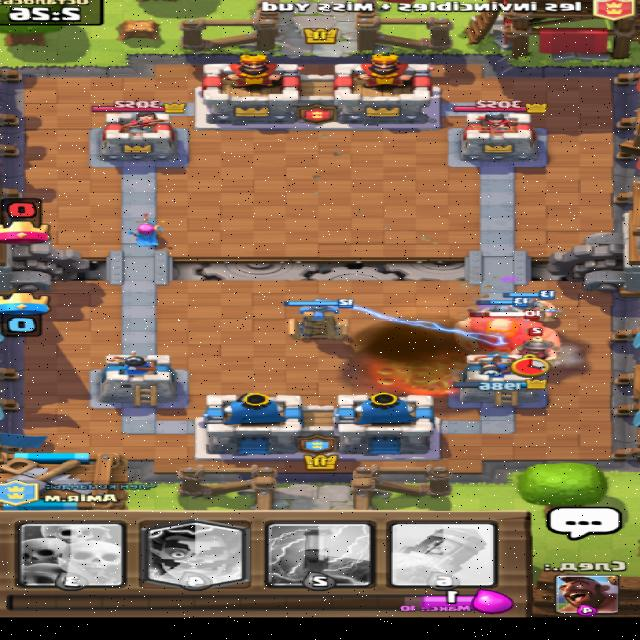Enemy-Giant: (457, 309, 563, 360)
Player-Archer: (126, 211, 170, 247)
Player-EliteBarbarian: (504, 289, 559, 320), (477, 296, 530, 313)
Player-Tesla: (280, 294, 360, 340)
